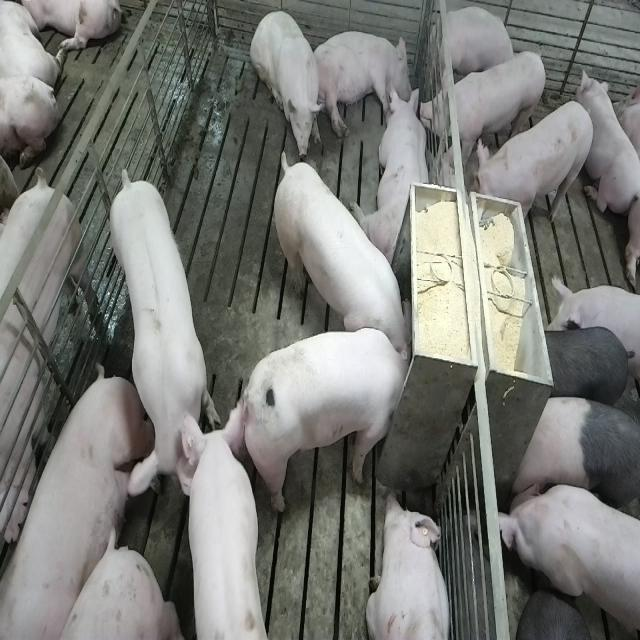Feeding: (247, 326, 420, 515), (270, 144, 410, 355)
Lateral_lying: (3, 365, 164, 640), (310, 29, 414, 140)
Sitting: (250, 6, 324, 160)
Standing: (0, 173, 100, 562), (105, 167, 220, 497), (499, 480, 638, 640), (170, 415, 264, 640), (510, 394, 638, 524), (474, 99, 596, 228), (419, 50, 548, 163), (531, 323, 637, 413)
Sternal_lying: (357, 86, 432, 268), (366, 490, 453, 640), (578, 69, 638, 222)
